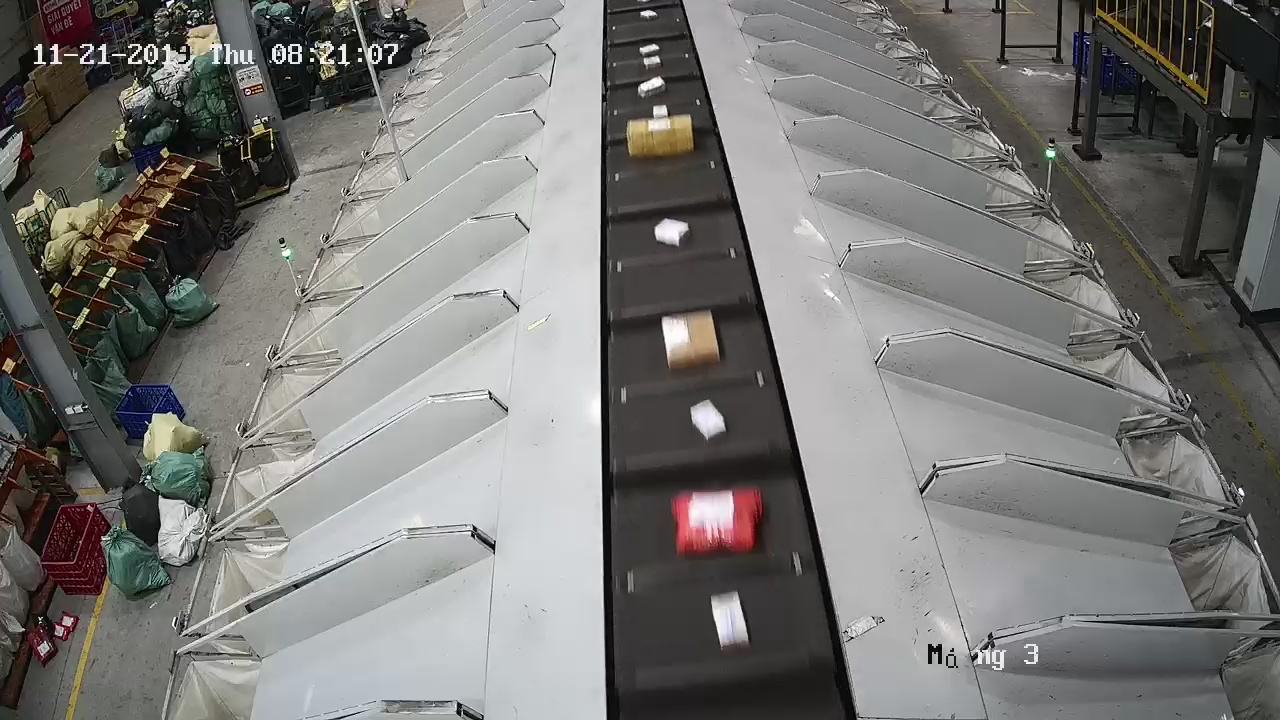parcel: (668, 486, 766, 557), (659, 306, 723, 373), (689, 397, 728, 445), (653, 215, 694, 250)
